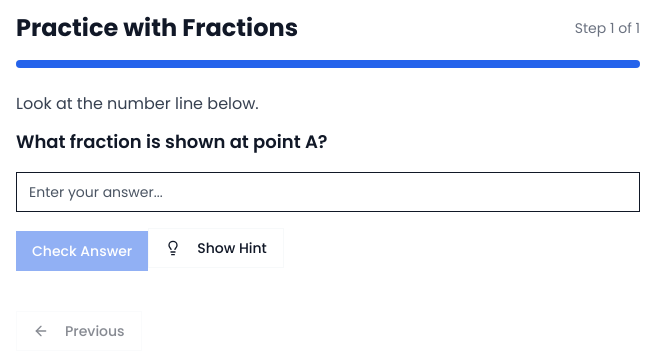
GuidedPractice › shows correct feedback for right answer
In the field with test id "answer-input": {"x": 328, "y": 192} [16,172,640,212], type "1/4"
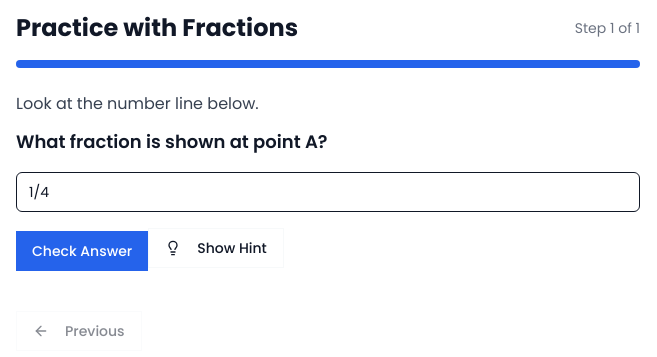
Click the button with test id "submit-answer-button": {"x": 82, "y": 251} [16,231,148,271]
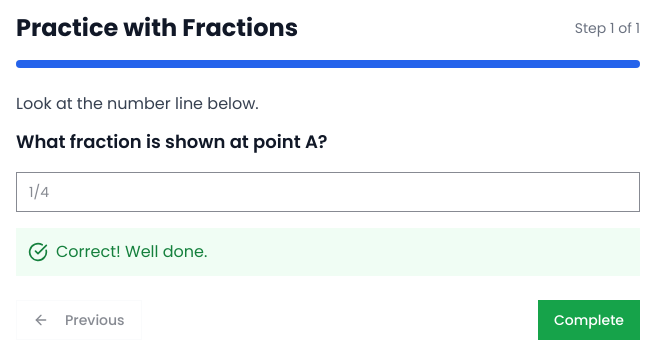
expect the text "Correct! Well done." is shown: met, box [56,240,207,264]
